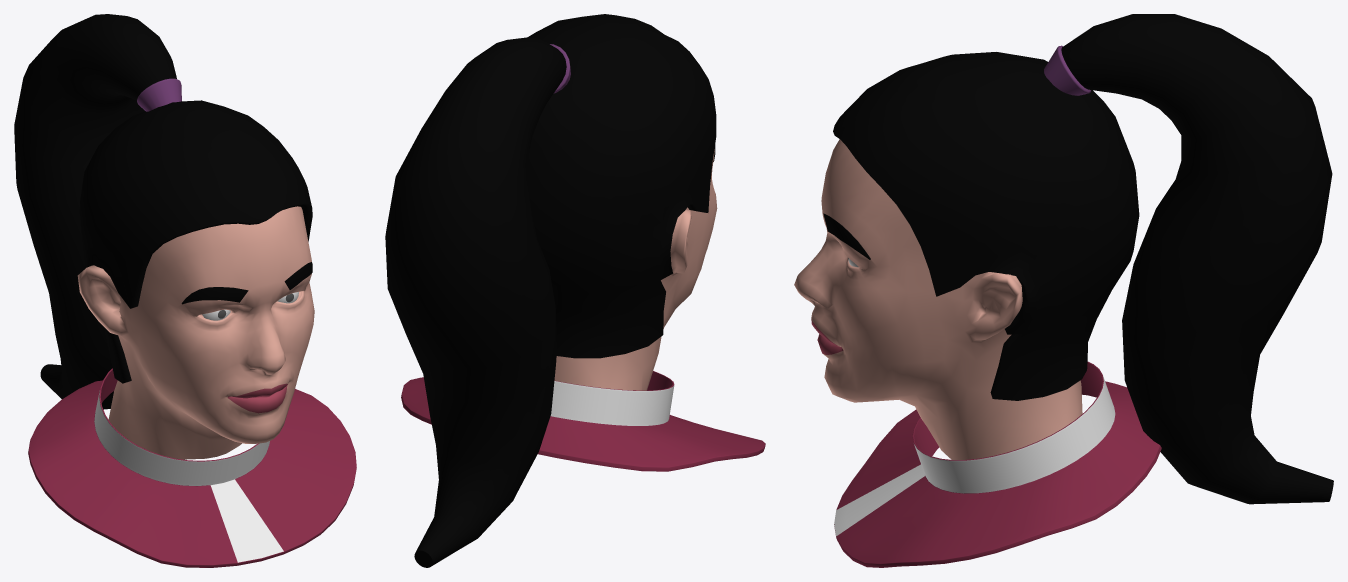
Rendered from Female_Avatar_LongHair.fbx.
3 views of the same model, side by side, from view 1: azimuth 30°, elevation 25°; view 2: azimuth 150°, elevation 25°; view 3: azimuth 270°, elevation 25° (orthographic). The views are drawn at different scales.
Parts seen in each view (by area): view 1: Female_Character; view 2: Female_Character; view 3: Female_Character.
Part boxes in pixels (x1,y1,x2,y2): Female_Character: (14, 14, 356, 567); Female_Character: (385, 14, 765, 567); Female_Character: (794, 14, 1333, 567).
Size of the model in its own units: 10.38 by 14.68 by 14.07.
